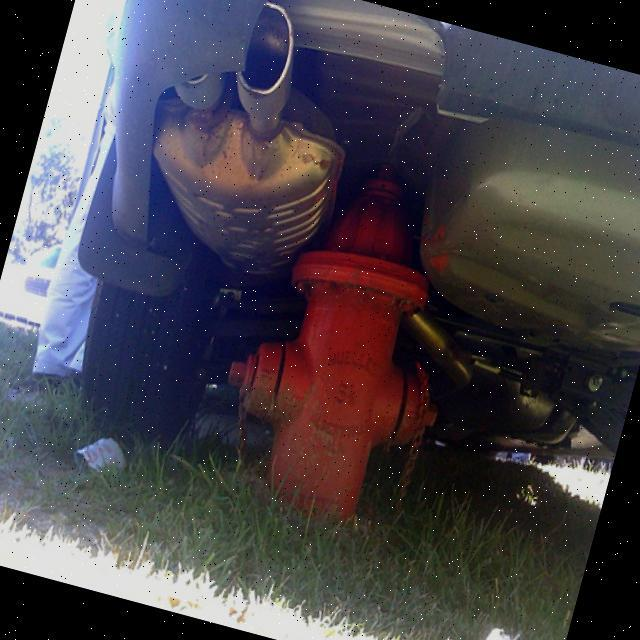fire_hydrant: (186, 91, 510, 554)
